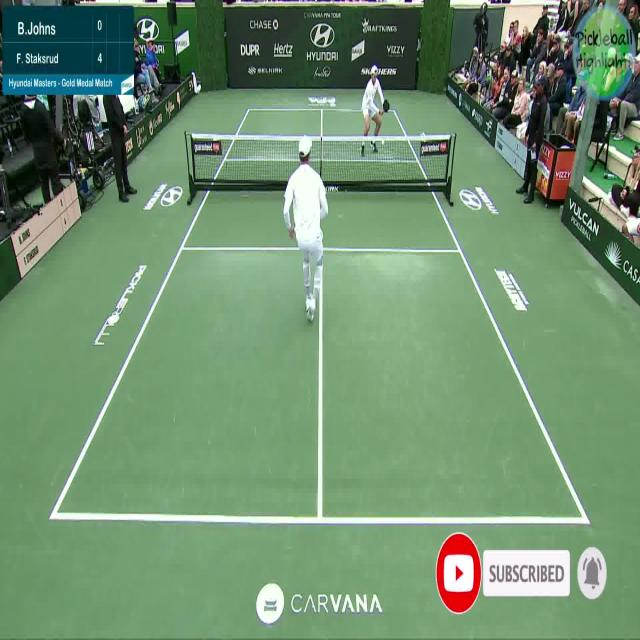ball: (381, 135, 386, 149)
